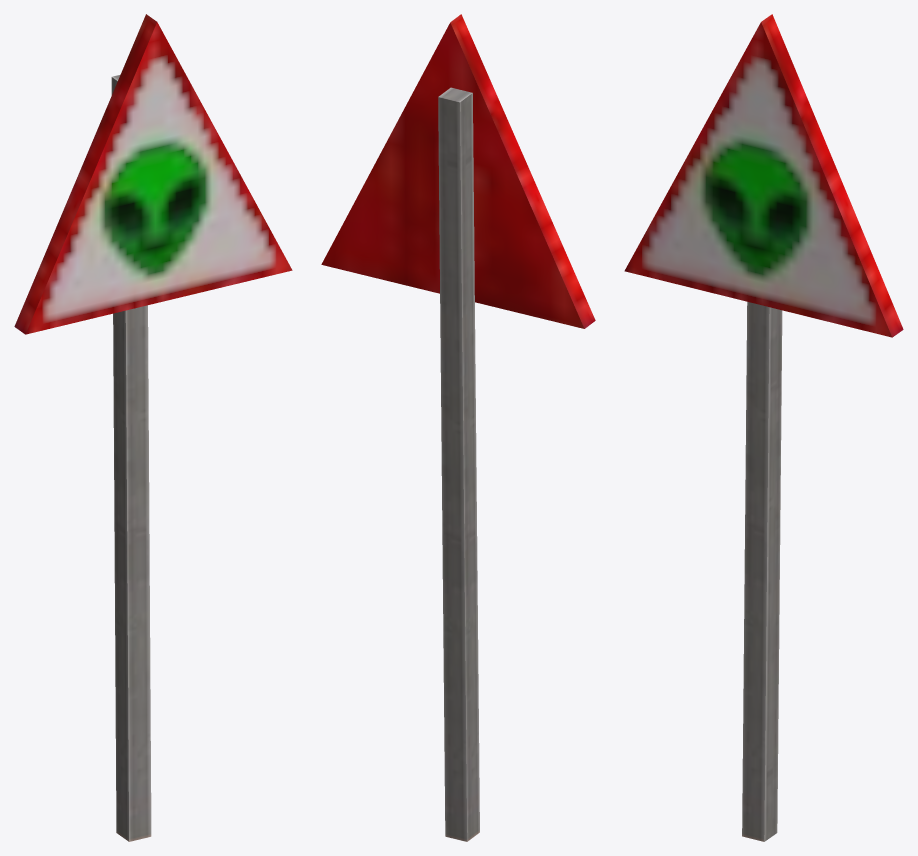
Rendered from Colony_Alien_Sign_Art-transformed.glb.
3 views of the same model, side by side, from view 1: azimuth 30°, elevation 25°; view 2: azimuth 150°, elevation 25°; view 3: azimuth 330°, elevation 25° (orthographic).
Visible parts, largest first — view 1: Colony_Alien_Sign_Art; view 2: Colony_Alien_Sign_Art; view 3: Colony_Alien_Sign_Art.
Part boxes in pixels (x1,y1,x2,y2): Colony_Alien_Sign_Art: [14, 14, 292, 841]; Colony_Alien_Sign_Art: [321, 14, 595, 841]; Colony_Alien_Sign_Art: [624, 14, 903, 841].
Bounding box in the file's own units: 1.05 × 3.07 × 0.1768.
Materials: 1 (1 with a texture image).
